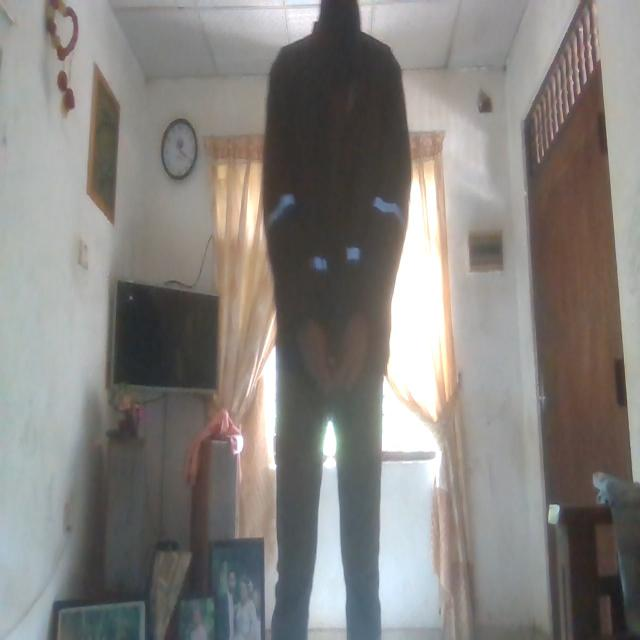Jacket_Wearer: (262, 25, 408, 402)
Person: (259, 0, 415, 640)
